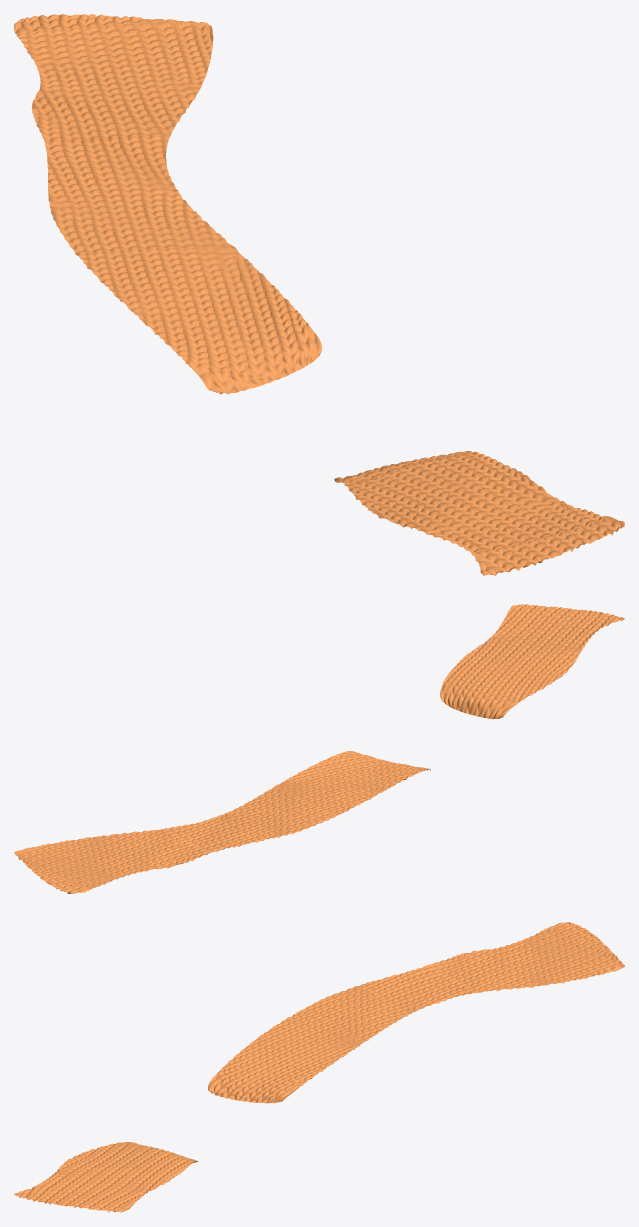
Rendered from Piso de bosquefbx.fbx.
3 views of the same model, one above another, from view 1: azimuth 30°, elevation 25°; view 2: azimuth 150°, elevation 25°; view 3: azimuth 330°, elevation 25° (orthographic). The views are drawn at different scales.
Visible parts, largest first — view 1: PisoBosque.001; view 2: PisoBosque.001; view 3: PisoBosque.001.
Part boxes in pixels (x1,y1,x2,y2): PisoBosque.001: (14, 14, 624, 575); PisoBosque.001: (14, 604, 624, 893); PisoBosque.001: (14, 922, 624, 1212).
Bounding box in the file's own units: 1290 × 170 × 4183.
